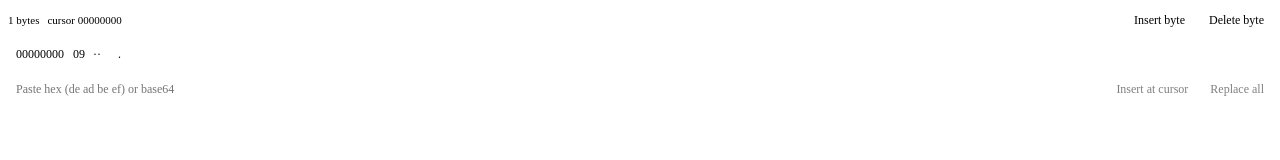
Scenario: HexEditor › pastes base64 from the box and shows an error for invalid input
Step 1. Type "AAH/" into the field named "Hex or base64 to paste" → (555, 89), box [8,76,1102,102]
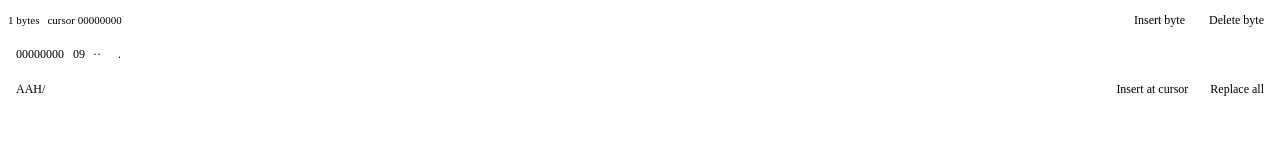
Step 2. Click the button "Replace all" → click(1237, 89), box [1202,77,1272,101]
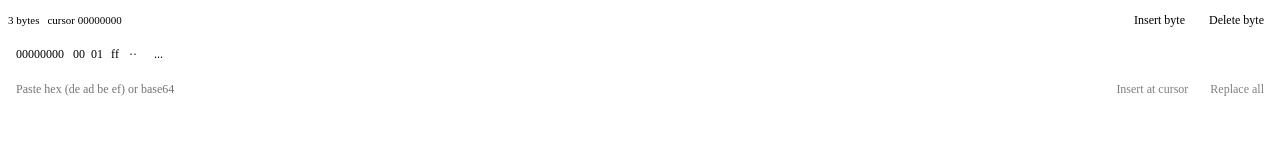
Step 3. Type "zz top" into the field named "Hex or base64 to paste" → (555, 89), box [8,76,1102,102]
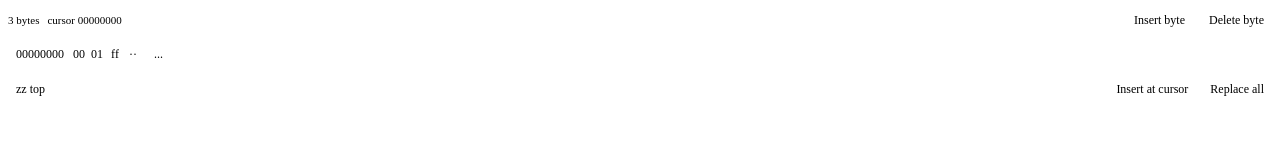
Step 4. Click the button "Insert at cursor" → click(1152, 89), box [1108,77,1196,101]
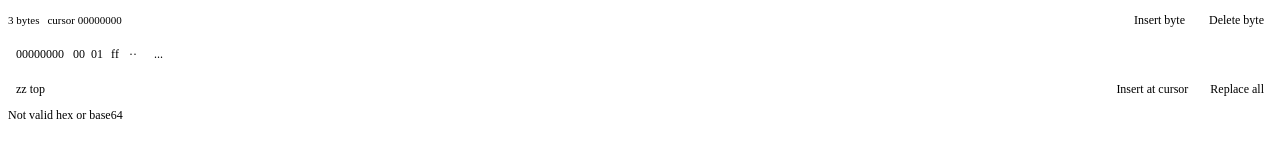
Result: the message reads "Not valid hex or base64" at [8,108,123,122]
